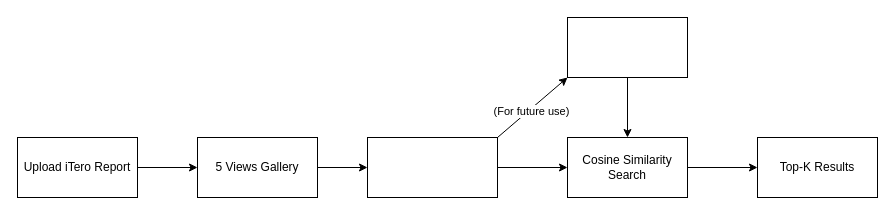
The diagram is 895 pixels wide and 215 high, and some of its shapes have lost their labels. Here are the shapes that lost their labels. From the top down, the centre of each, then its label:
At point 627,47: "Old Patients' Past Scans (Embeddings)".
At point 432,167: "DinoV3 generate new embedding (2048-dim, mean pool)".
